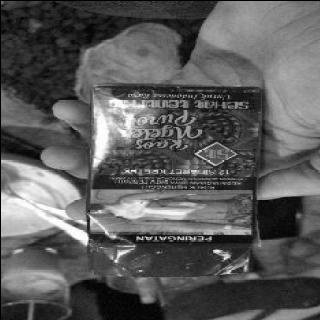objects: (87, 84, 261, 274)
